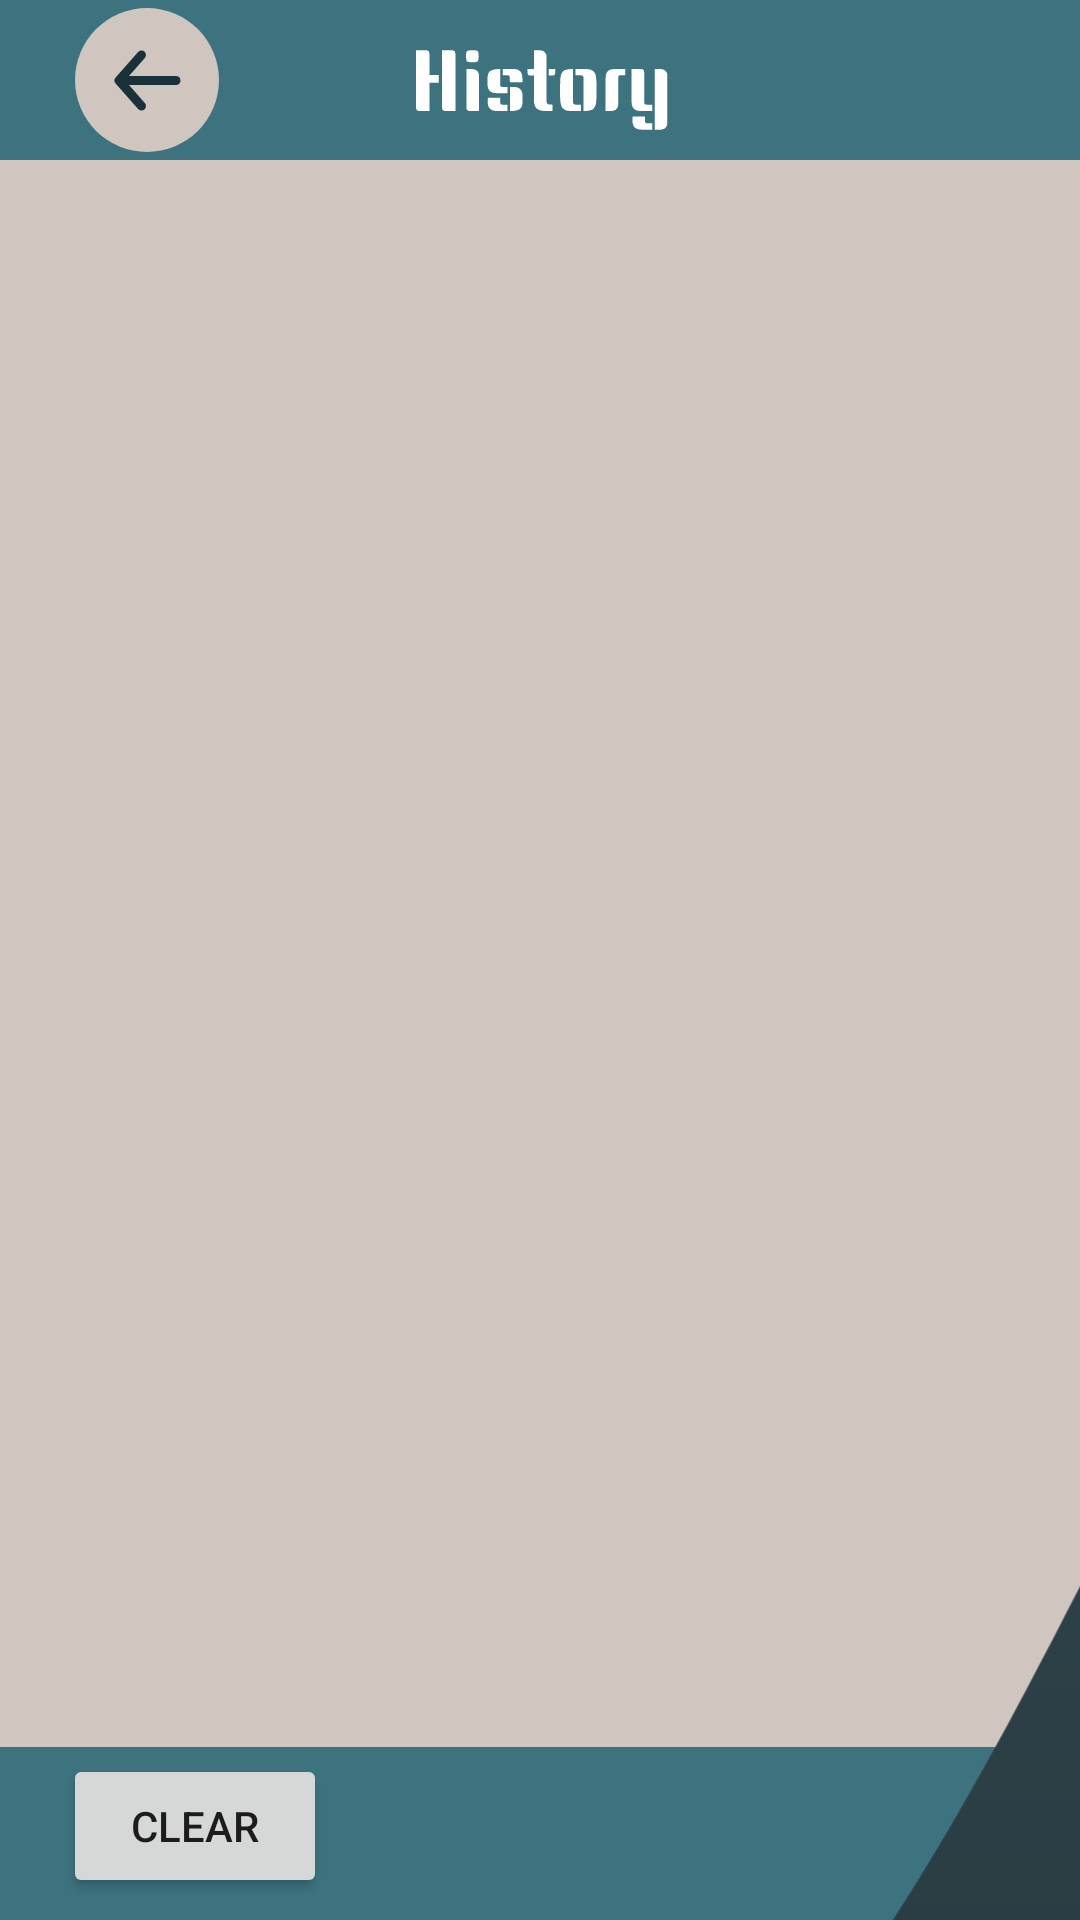

Where icons sit on this 1080w x 1920h app screen, as box=[x1, y1, x2, y2]:
back arrow: box=[75, 8, 219, 152]
